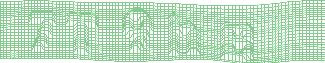7: (27, 9, 58, 55)
9: (120, 6, 155, 55)
T: (64, 10, 102, 56)
h: (167, 10, 202, 58)
s: (219, 21, 256, 63)
